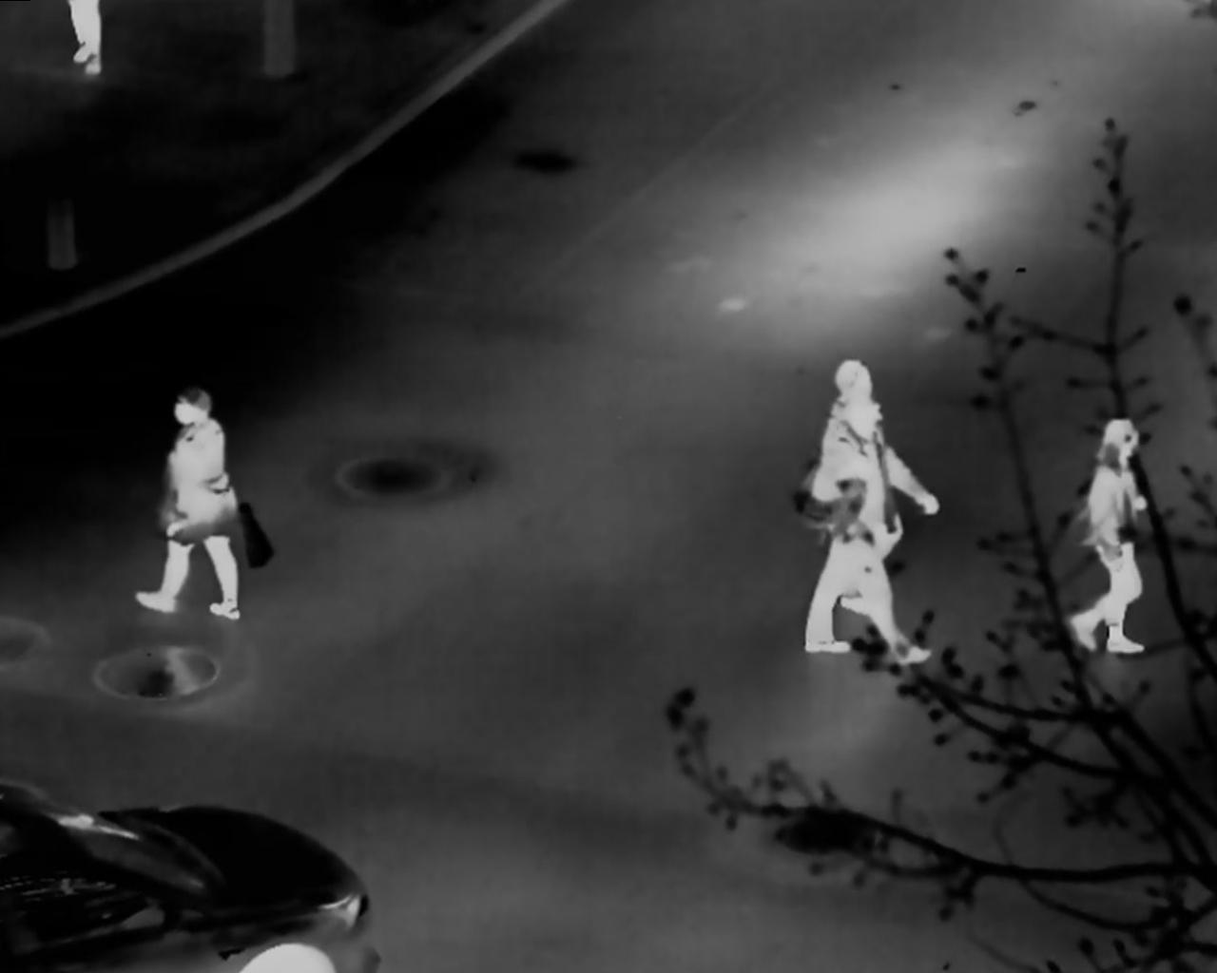person: (802, 401, 937, 661), (805, 357, 909, 615), (137, 387, 246, 619), (1068, 417, 1146, 656)
